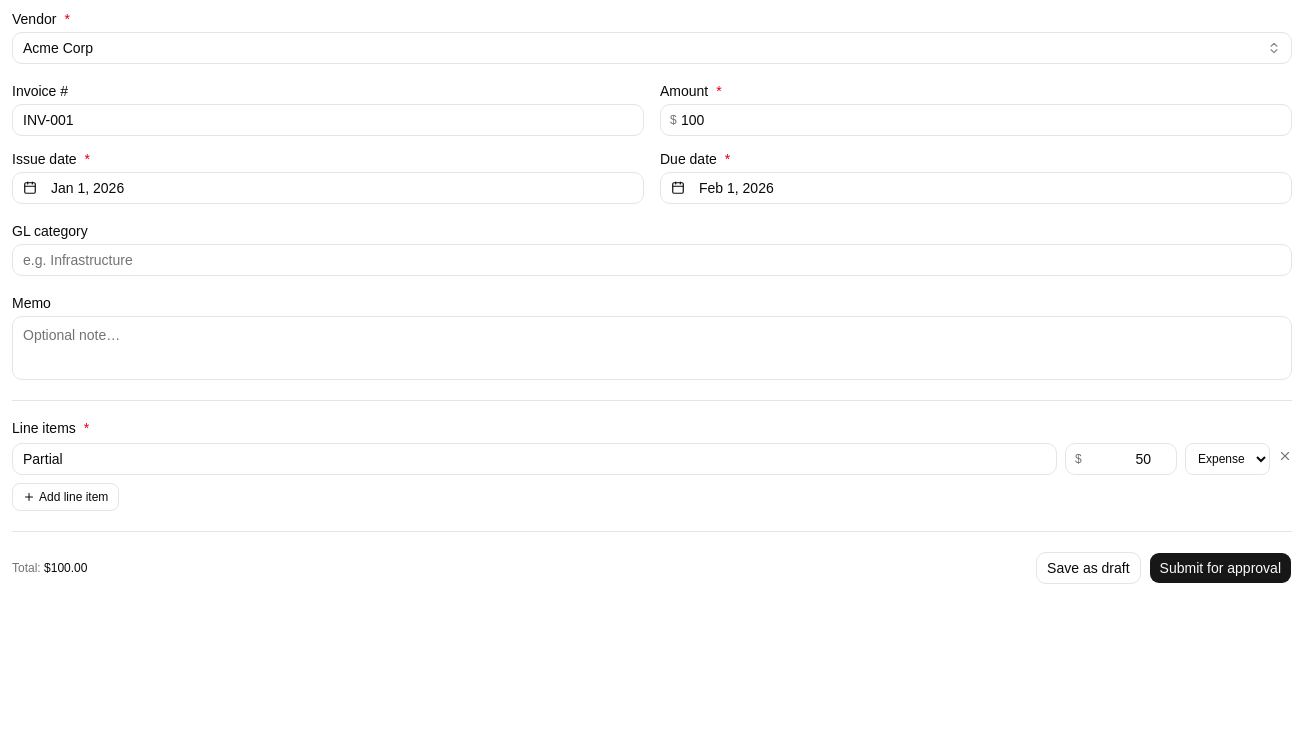
Test: BillIntakeForm › shows mismatch error when line items do not sum to the bill amount
Expected: the button "Acme Corp" is shown, [12,32,1292,64]
Step 1. Click the button "Submit for approval" → (1220, 568), box [1149,552,1292,584]
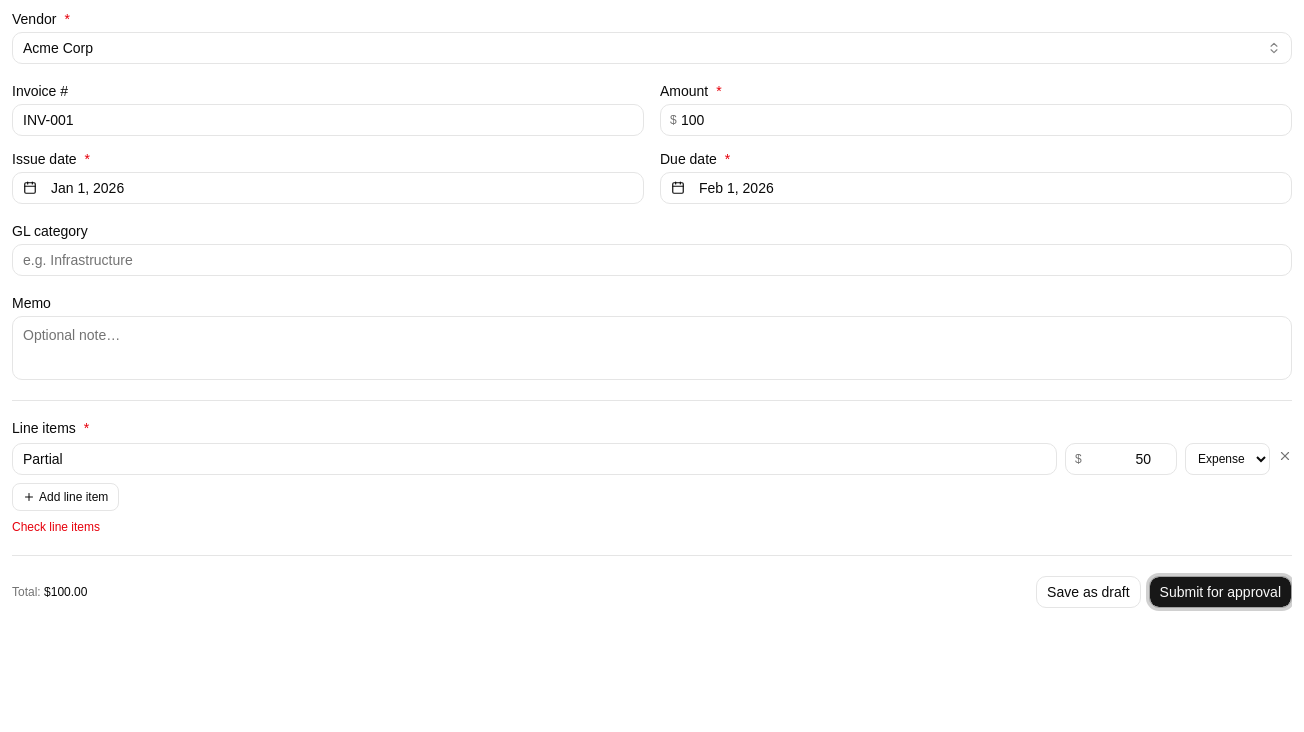
Expected: the text "Check line items" is shown, [12,520,100,534]
